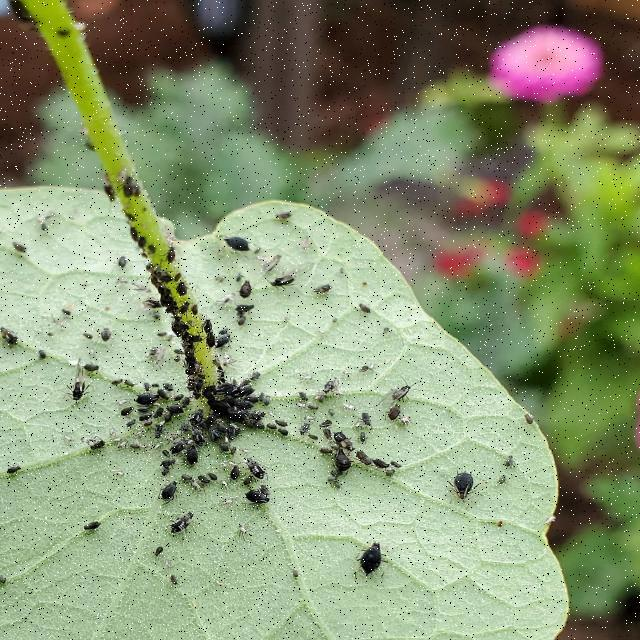Aphids: (334, 510, 417, 588), (417, 454, 503, 510)
